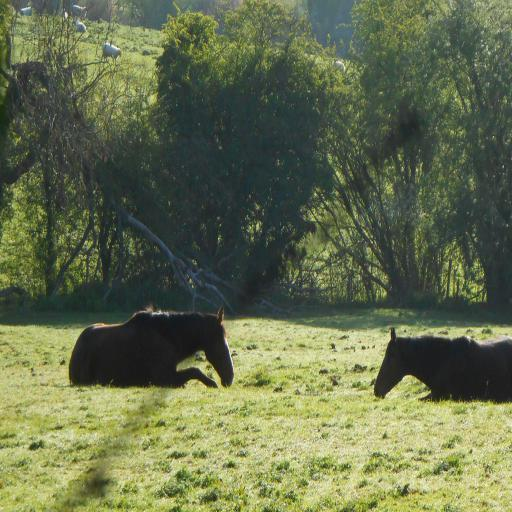Horse: (62, 308, 240, 399), (373, 326, 512, 402)
